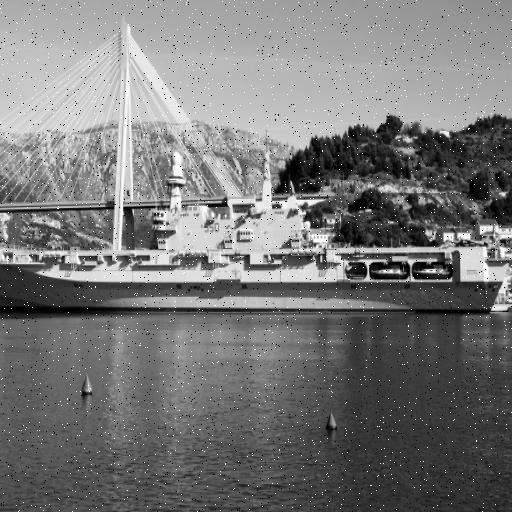Portanaves: (1, 127, 512, 319)
